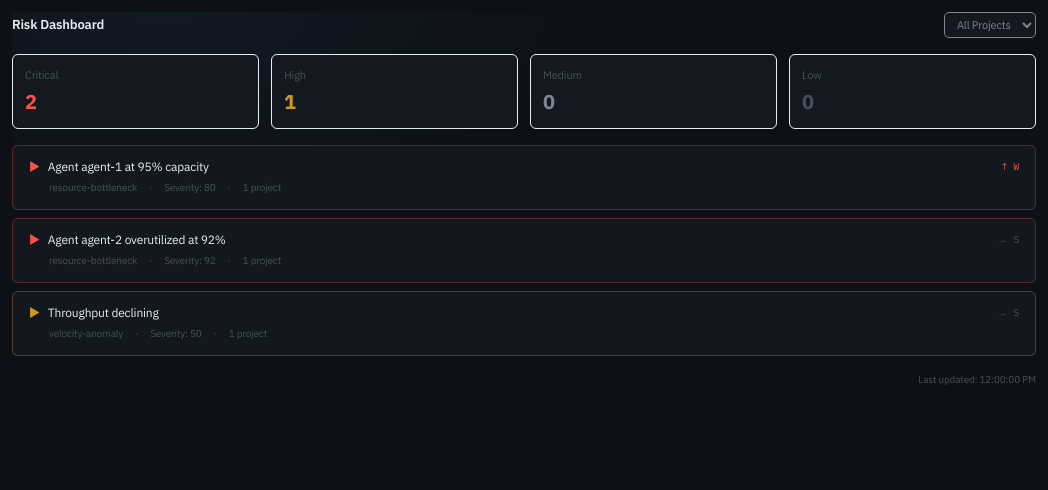
Test: RiskDashboard › expands risk factor detail on click
Expected: the text "Agent agent-1 at 95% capacity" is shown, [48, 158, 209, 174]
# Click the first risk factor card to expand
What coordinates should you click on to do the following:
click the button that starts with "Agent agent-1 at 95% capacity"
I would click on:
 (128, 166)
Its box is [29, 158, 1019, 194].
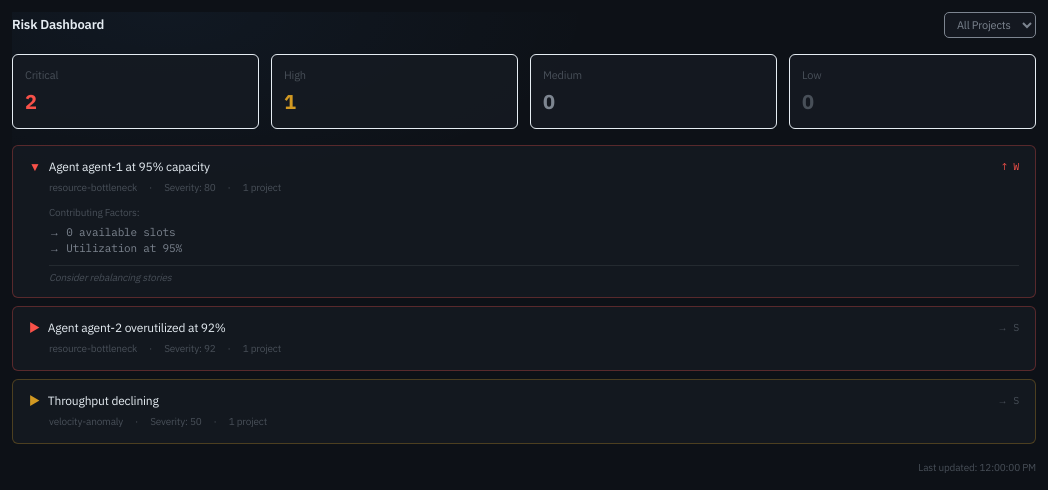
Now the text "Contributing Factors:" is shown, box [49, 206, 139, 218]
Now the text "→ 0 available slots" is shown, box [49, 224, 176, 238]
Now the text "Consider rebalancing stories" is shown, box [49, 264, 1019, 284]
